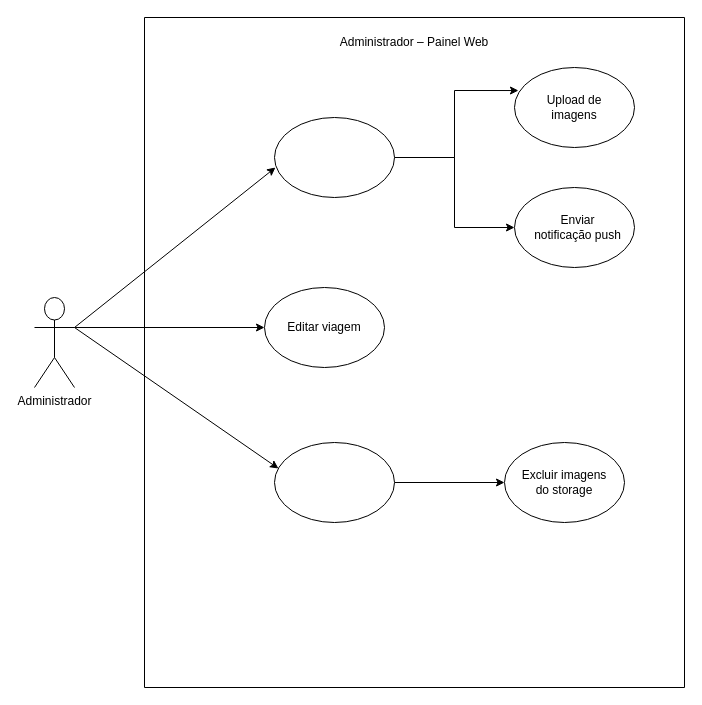
Some shapes in this 702 by 705 pixel diagram are drawn without their labels. The box of each missing label's shape, as (x1, y1, x2, y2) in pixels:
Cadastrar viagem: (274, 116, 394, 198)
Excluir viagem: (274, 442, 394, 522)
